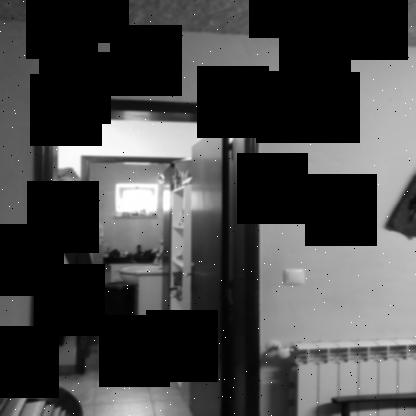Porte: (26, 91, 264, 415), (77, 152, 186, 376)
